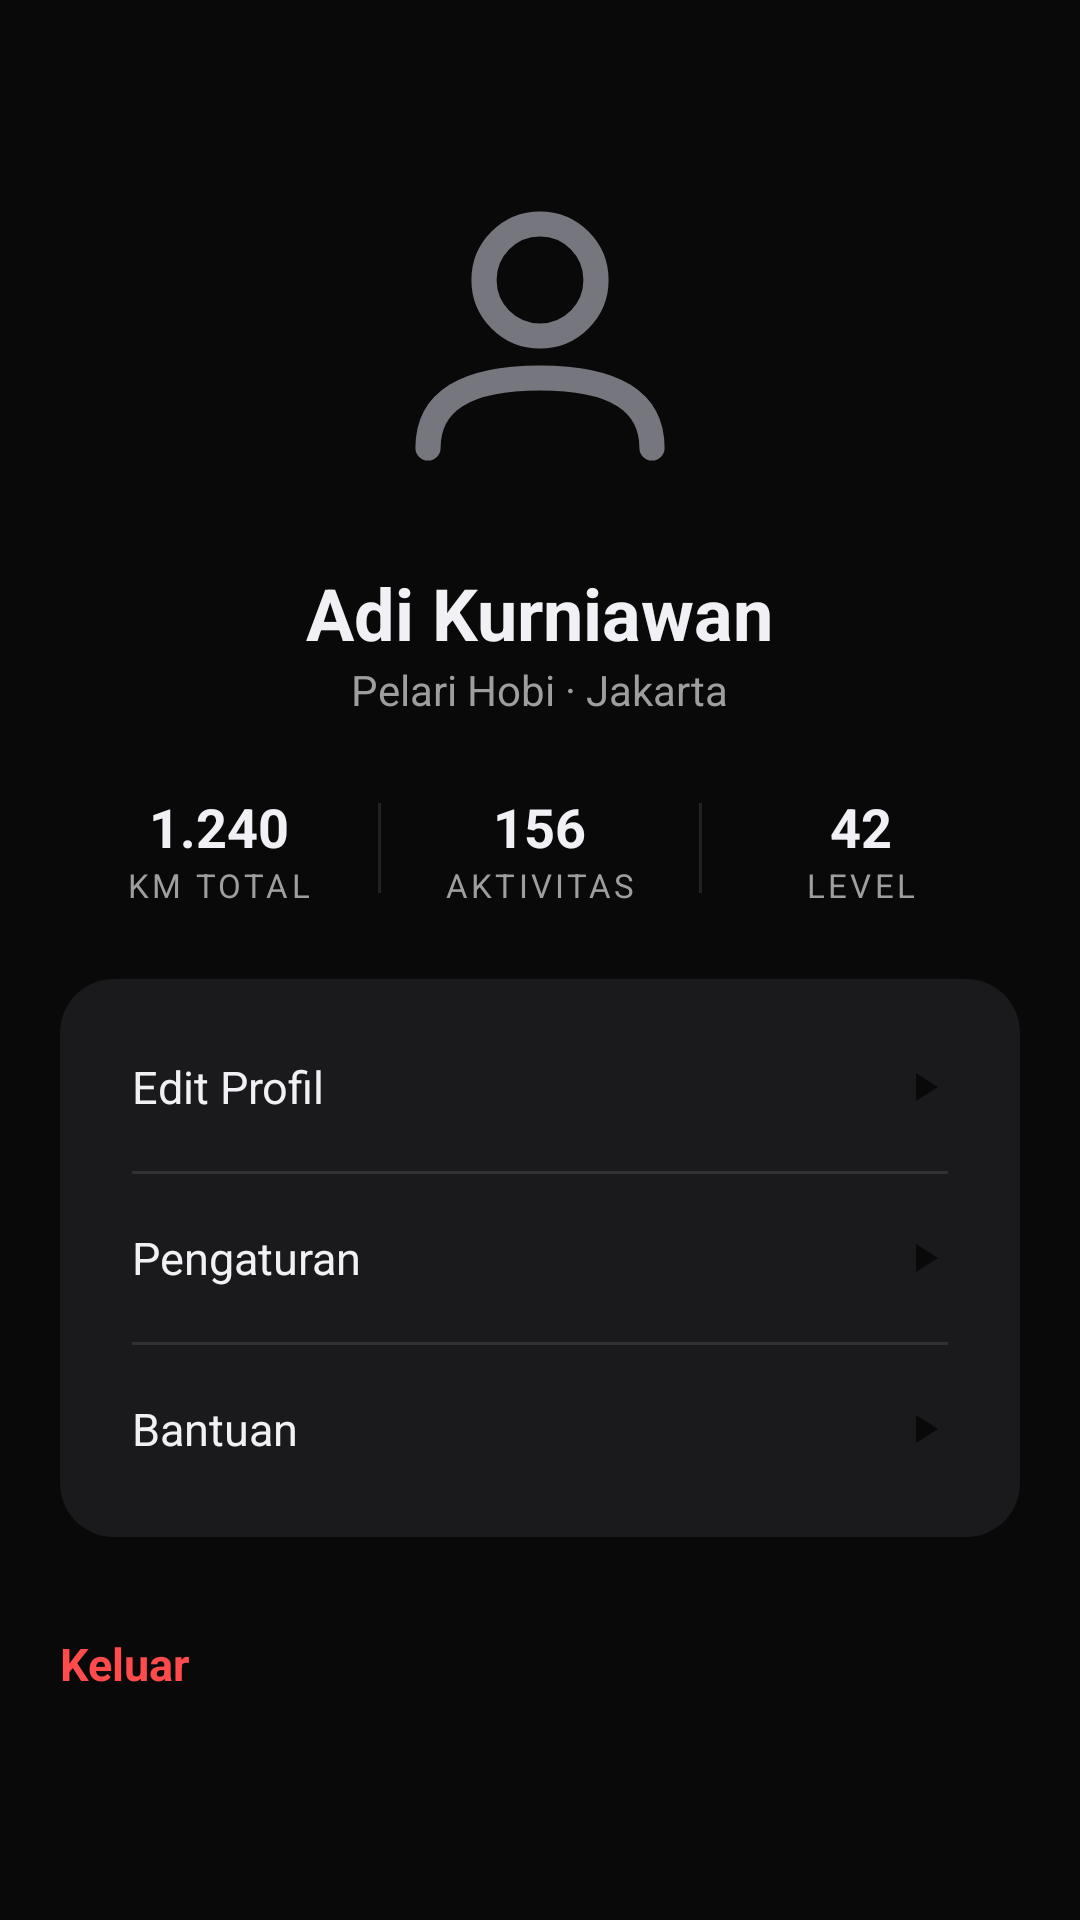

Icon bounding boxes for this 1080*1920 phone screenshot, format (x1, y1, x2, y2):
Foto Profil: (415, 211, 665, 461)
